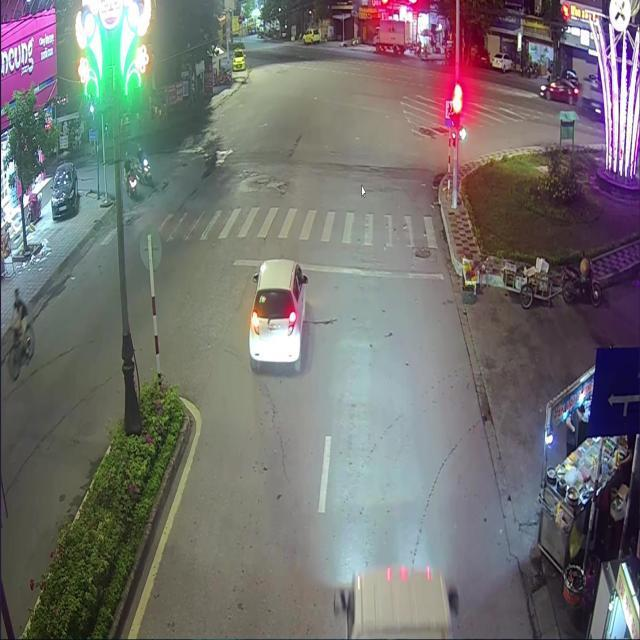car: (332, 566, 457, 638), (248, 258, 307, 370)
red_light: (452, 97, 459, 127)
stop_line: (231, 258, 442, 280)
